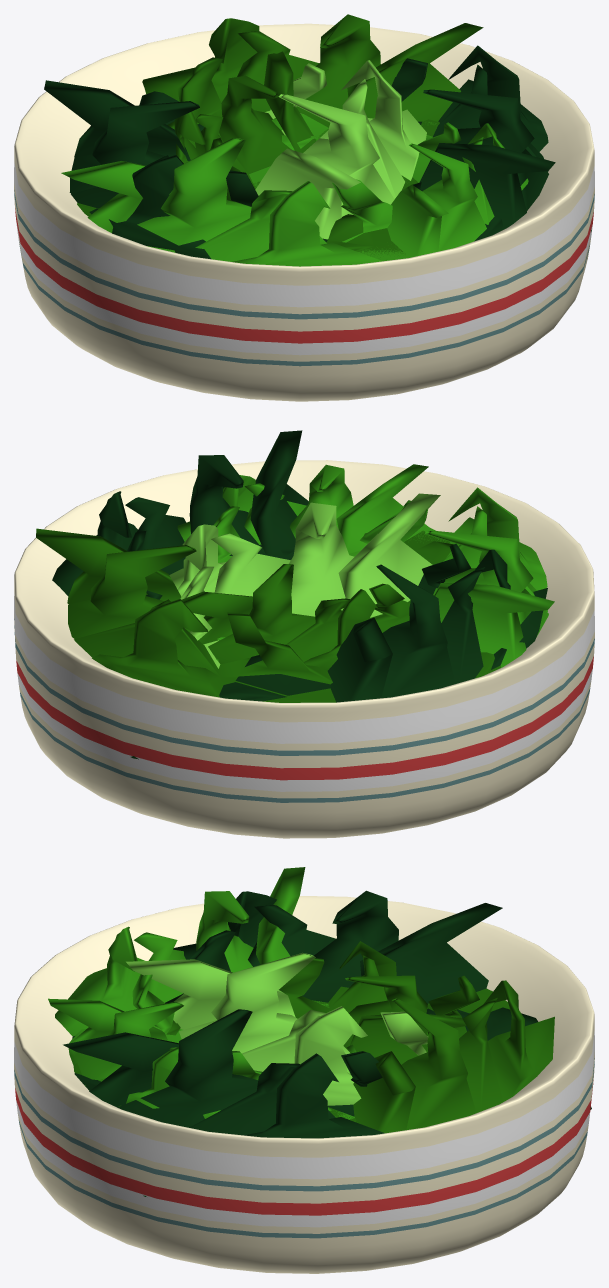
The model's file is lettuce.fbx.
3 renders of one model, top to bottom at view 1: azimuth 30°, elevation 25°; view 2: azimuth 150°, elevation 25°; view 3: azimuth 270°, elevation 25°, orthographic.
Visible parts, largest first — view 1: lettuce_bowl; view 2: lettuce_bowl; view 3: lettuce_bowl.
Boxes of the visible parts, <box> form: lettuce_bowl: <box>14,14,594,401</box>; lettuce_bowl: <box>14,430,594,838</box>; lettuce_bowl: <box>14,867,594,1273</box>.
Size of the model in its own units: 10.05 by 4.74 by 10.05.
